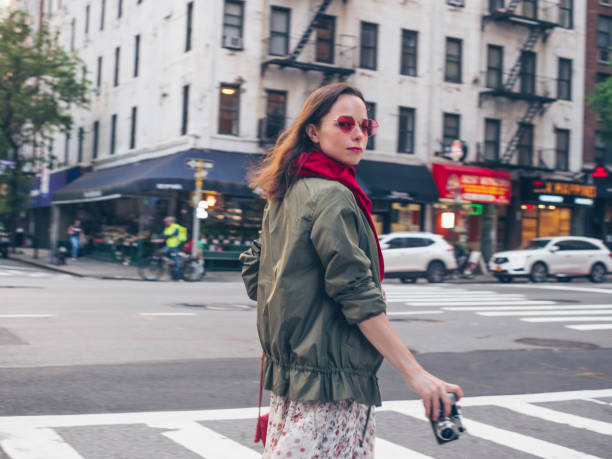otomobil: (488, 205, 611, 311), (383, 204, 468, 304)
yaya: (231, 55, 477, 458), (143, 212, 220, 260)
